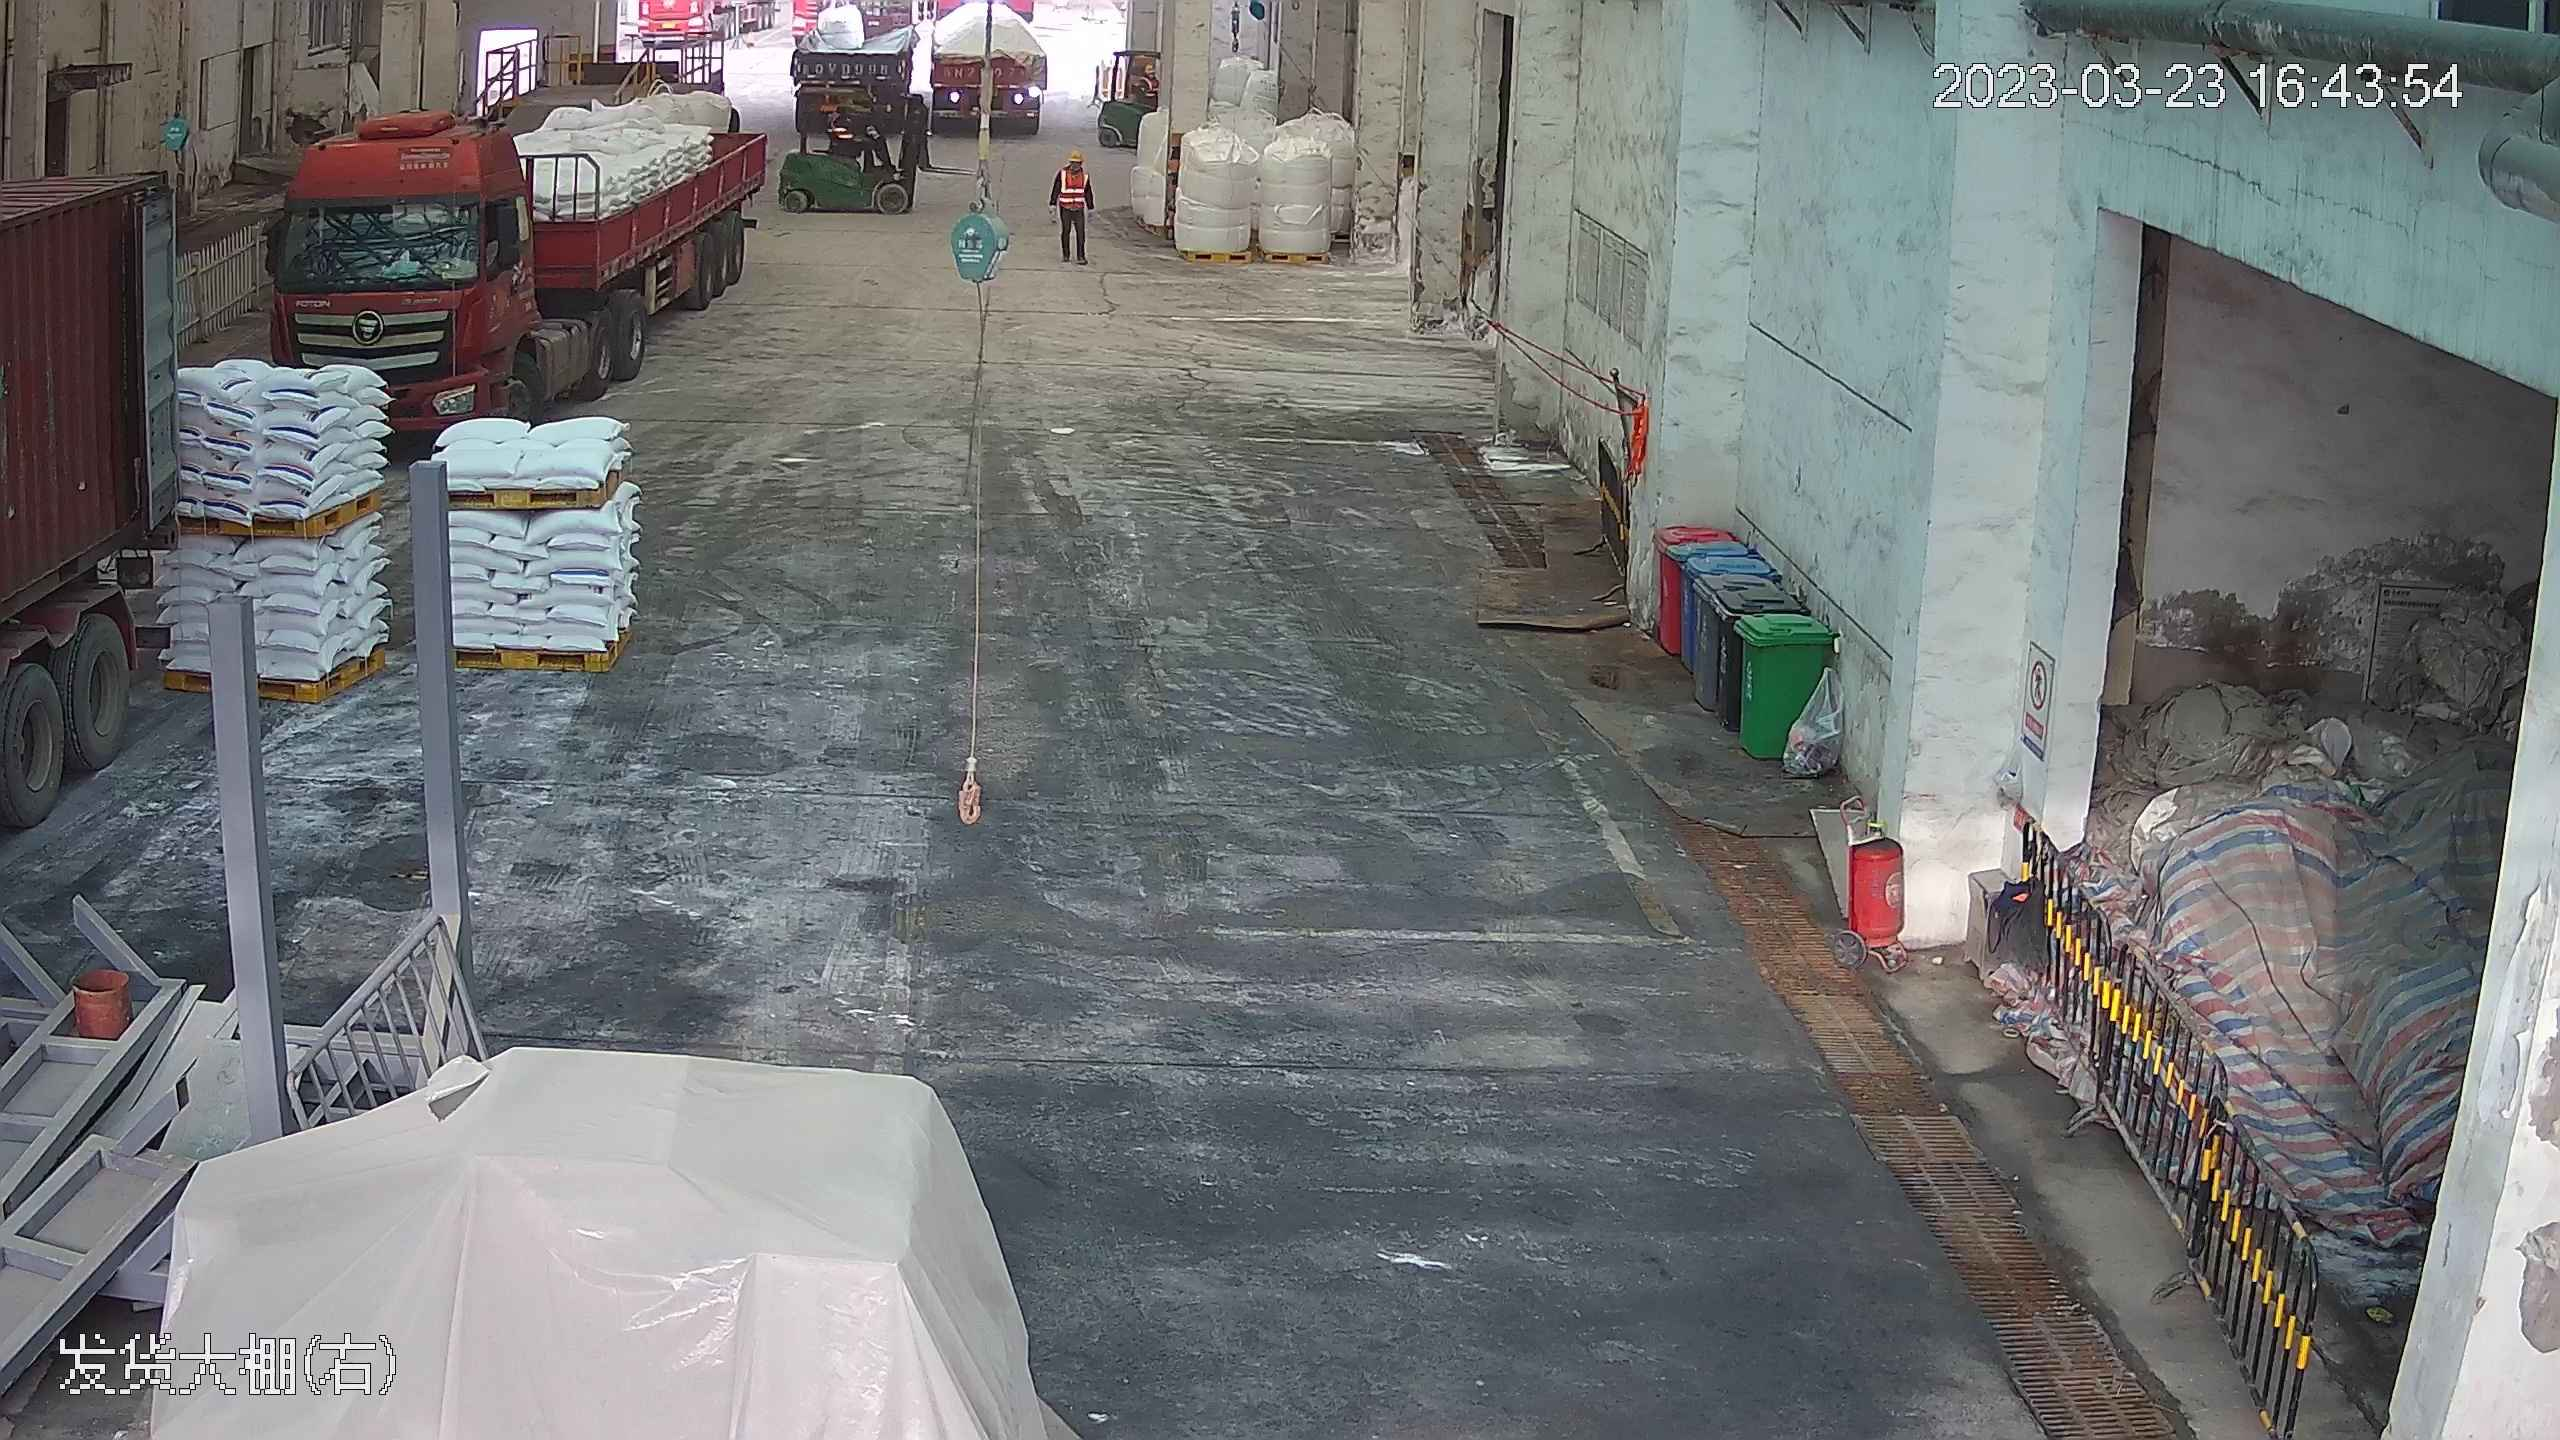head: (1056, 144, 1092, 185)
helmet: (1069, 148, 1085, 162)
people: (1048, 140, 1097, 264)
truck: (247, 19, 767, 441), (1, 40, 194, 1037)
